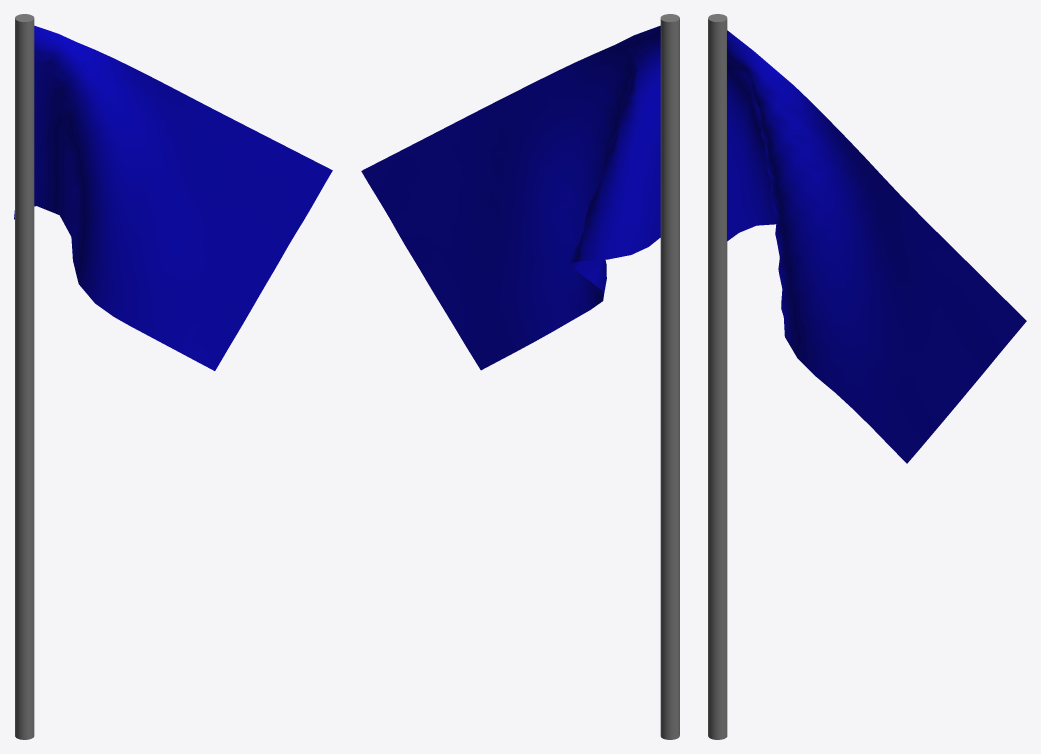
The model's file is BlueFlag.obj.
3 renders of one model, left to right at view 1: azimuth 30°, elevation 25°; view 2: azimuth 150°, elevation 25°; view 3: azimuth 330°, elevation 25°, orthographic.
Visible parts, largest first — view 1: objFlag; view 2: objFlag; view 3: objFlag.
Boxes of the visible parts, x1,y1,x2,y2 form: objFlag: [14, 14, 332, 739]; objFlag: [361, 14, 679, 739]; objFlag: [708, 14, 1026, 739].
Bounding box in the file's own units: 11.76 × 25.44 × 3.13.
